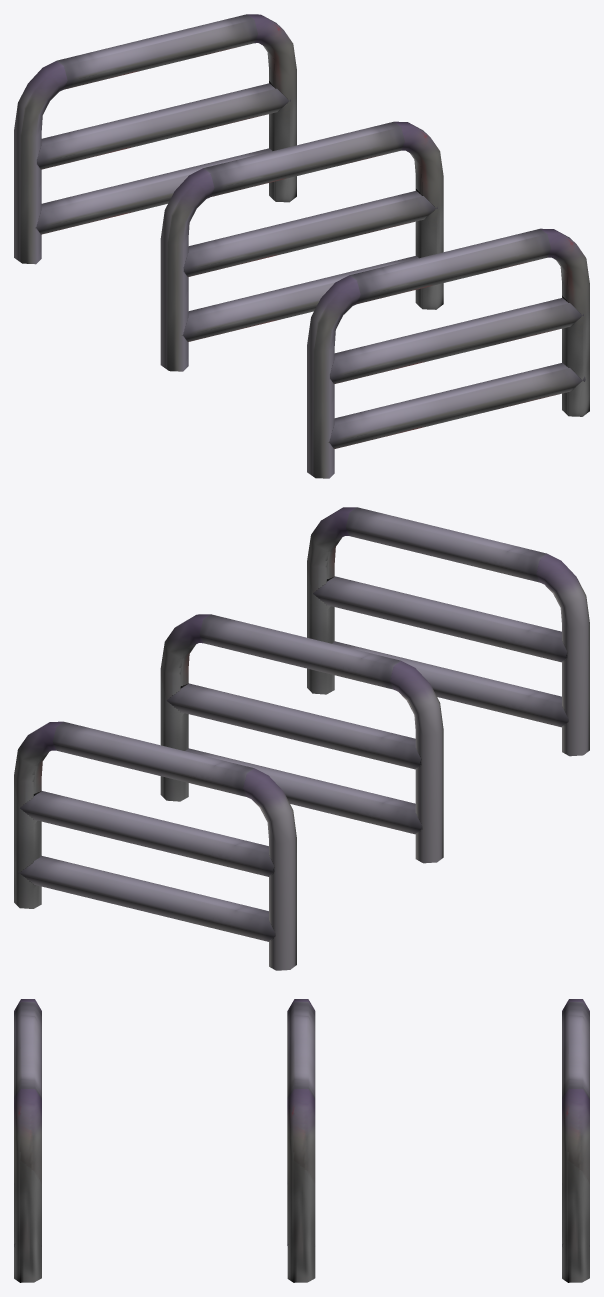
Rendered from backDivider.obj.
The picture shows the model from 3 angles, top to bottom: view 1: azimuth 30°, elevation 25°; view 2: azimuth 150°, elevation 25°; view 3: azimuth 270°, elevation 25°; orthographic projection. The views are drawn at different scales.
Parts seen in each view (by area): view 1: Cube.014_Cube.004; view 2: Cube.014_Cube.004; view 3: Cube.014_Cube.004.
Part boxes in pixels (x1,y1,x2,y2): Cube.014_Cube.004: (14, 14, 589, 478); Cube.014_Cube.004: (14, 507, 589, 970); Cube.014_Cube.004: (14, 999, 589, 1282).
Bounding box in the file's own units: 3.73 × 2.43 × 7.21.
